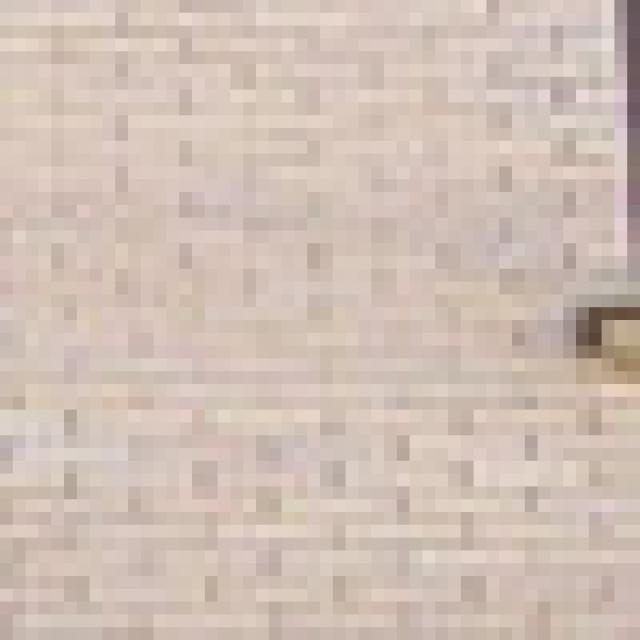no_fire: (16, 36, 640, 554)
